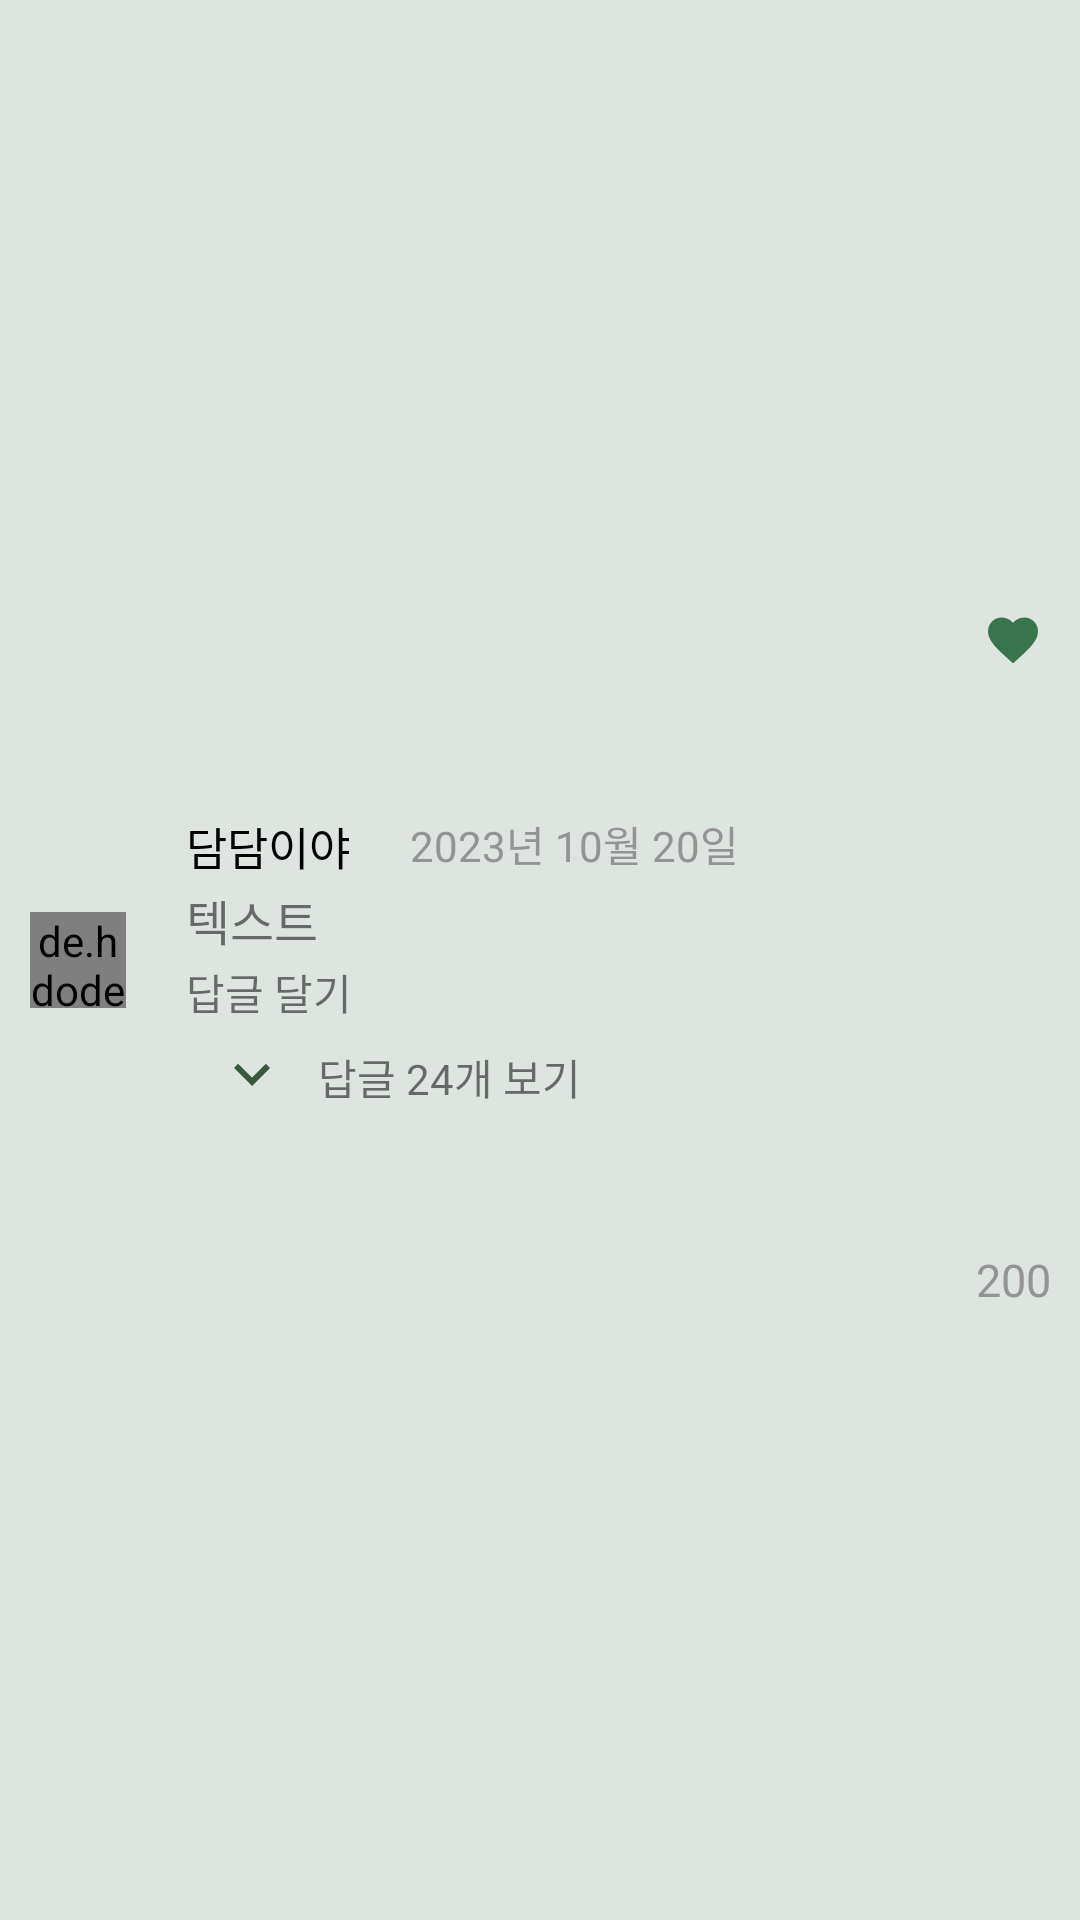

Point at icon controls on the screen. Image size 1080×1920, points as [x,y].
comment below: [252,1075]
newgreenheart: [1013,640]
